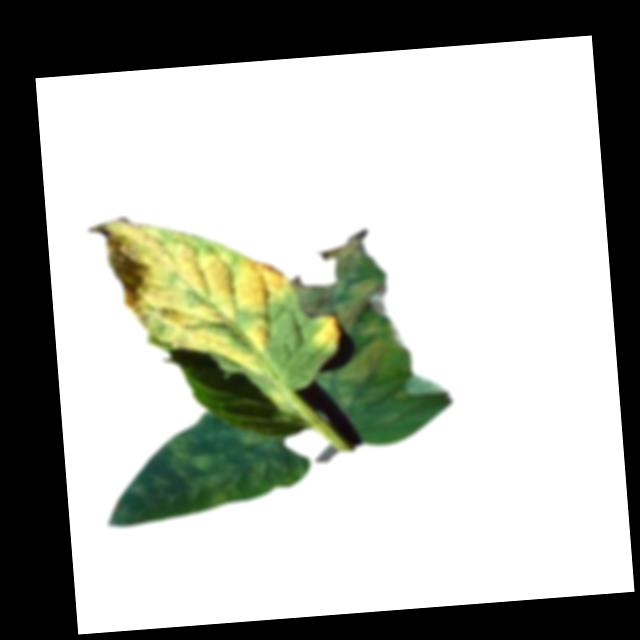Leaf_Mold: (103, 203, 294, 385), (286, 226, 411, 412), (101, 421, 298, 529)
